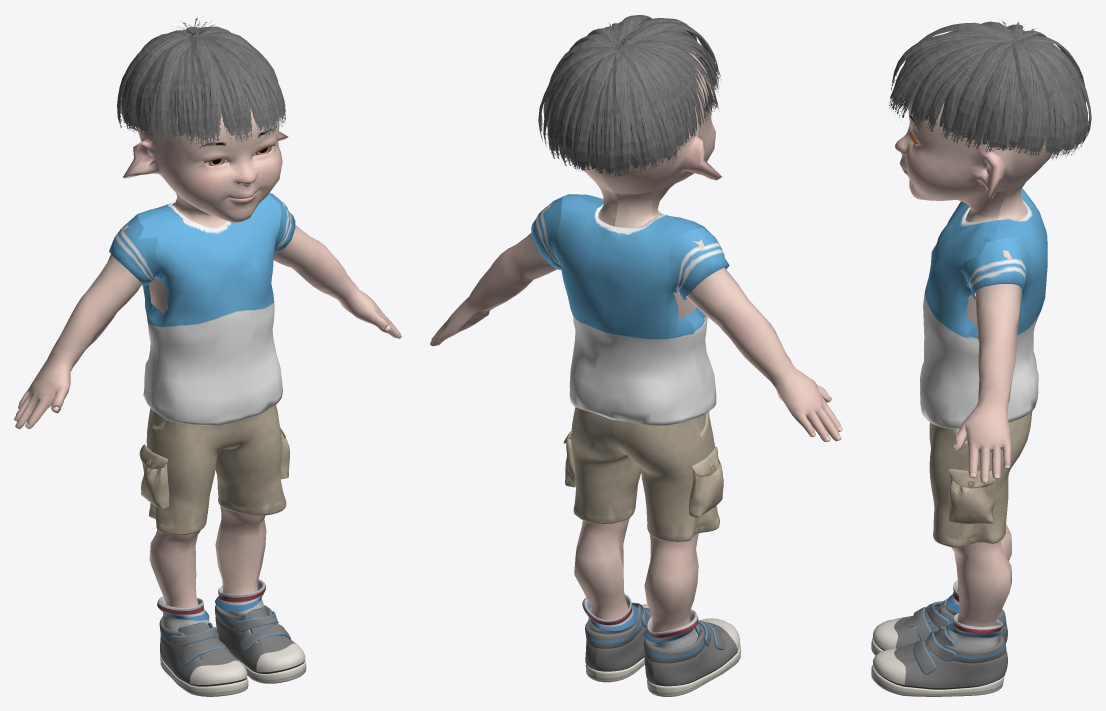
File: PunchDummy_Persistent.fbx
3 views of the same model, side by side, from view 1: azimuth 30°, elevation 25°; view 2: azimuth 150°, elevation 25°; view 3: azimuth 270°, elevation 25° (orthographic). The views are drawn at different scales.
Visible parts, largest first — view 1: Punch_asian_boy.002, Punch_asian_boy.003, Punch_Shoe.001; view 2: Punch_asian_boy.002, Punch_asian_boy.003, Punch_Shoe.001; view 3: Punch_asian_boy.002, Punch_asian_boy.003, Punch_Shoe.001.
Part boxes in pixels (x1=…): Punch_asian_boy.002: x1=14, y1=108, x2=401, y2=642; Punch_asian_boy.003: x1=117, y1=15, x2=285, y2=149; Punch_Shoe.001: x1=157, y1=579, x2=306, y2=696; Punch_asian_boy.002: x1=430, y1=51, x2=842, y2=635; Punch_asian_boy.003: x1=538, y1=15, x2=721, y2=178; Punch_Shoe.001: x1=582, y1=594, x2=740, y2=696; Punch_asian_boy.002: x1=895, y1=82, x2=1052, y2=646; Punch_asian_boy.003: x1=889, y1=19, x2=1091, y2=159; Punch_Shoe.001: x1=871, y1=580, x2=1007, y2=696.
Bounding box in the file's own units: 297 × 460 × 142.
Materials: 1 (1 with a texture image).
